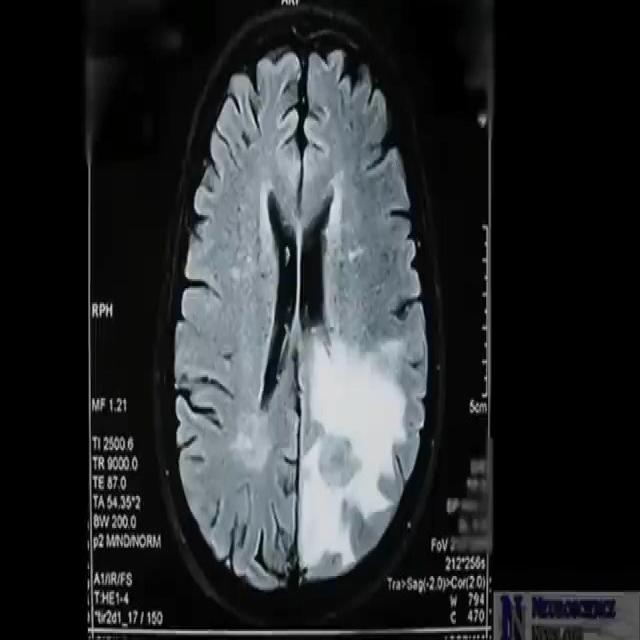tumor: (308, 349, 388, 502), (221, 421, 228, 426), (299, 317, 300, 325)
